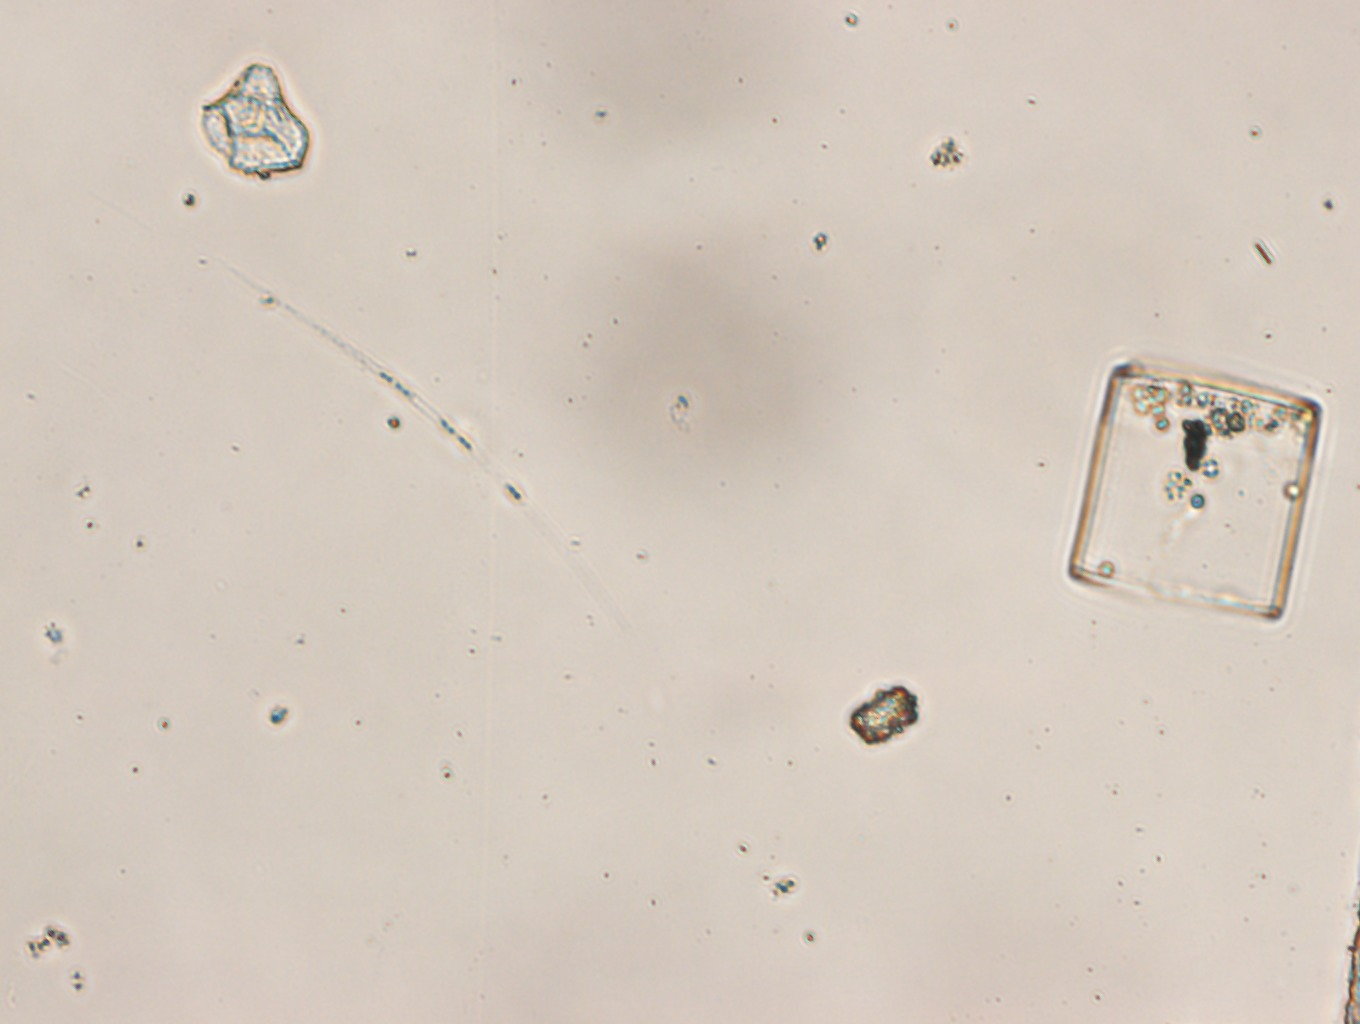guinardia flaccida: (1066, 361, 1323, 622)
